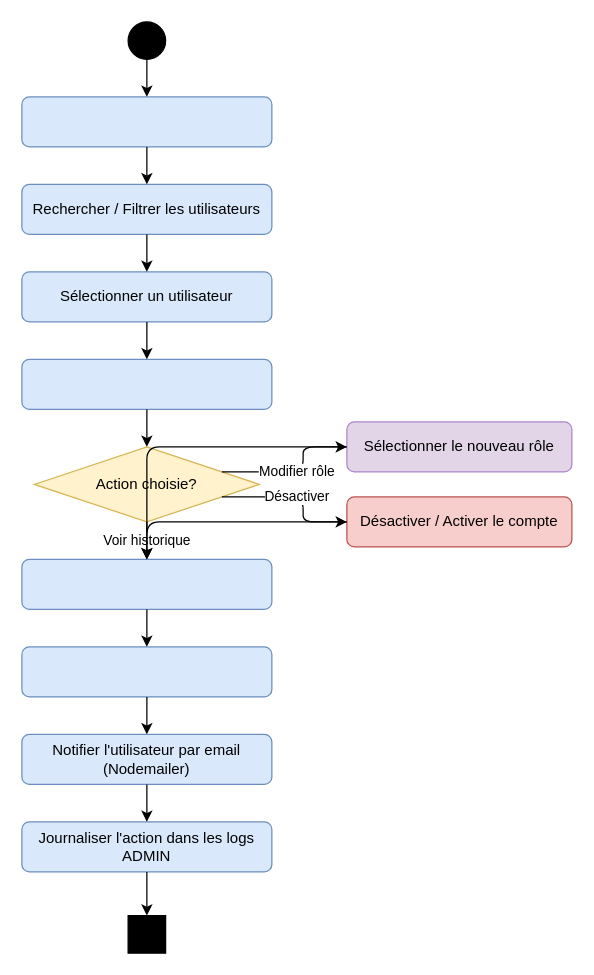
Some shapes in this 594 by 975 pixel diagram are drawn without their labels. Here are the shapes that lost their labels. From the top down, the centre of each, then its label:
point (146, 121): Accéder à la liste des utilisateurs (ADMIN)
point (146, 383): Afficher le profil complet et l'historique
point (146, 583): Confirmer l'action
point (146, 671): Sauvegarder les modifications en BDD
